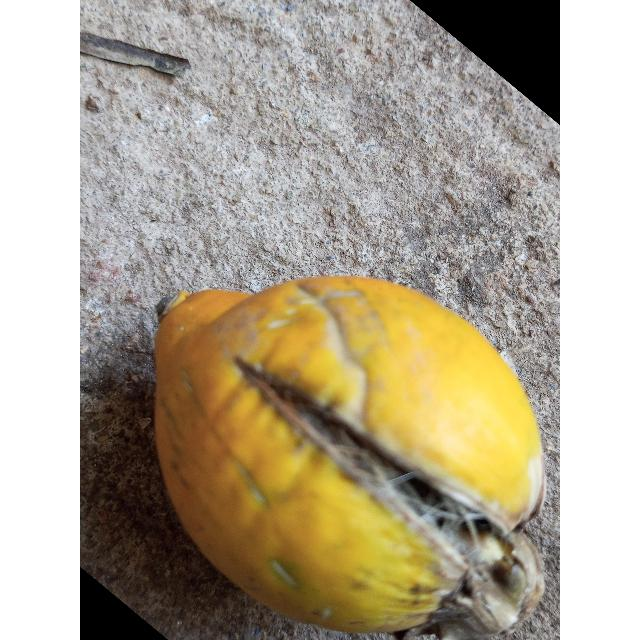damaged: (154, 276, 545, 640)
